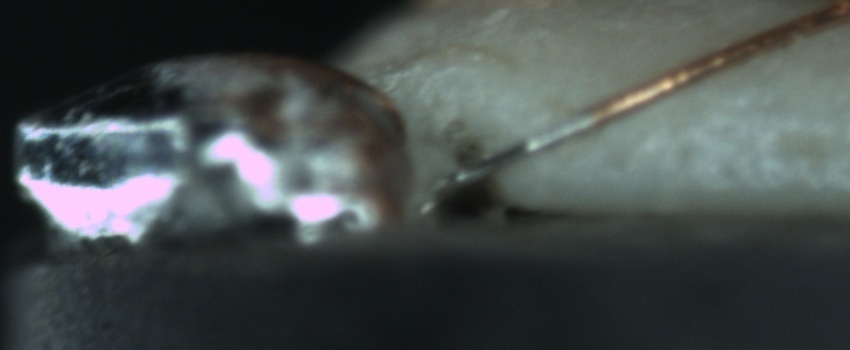TS: (437, 110, 595, 192)
